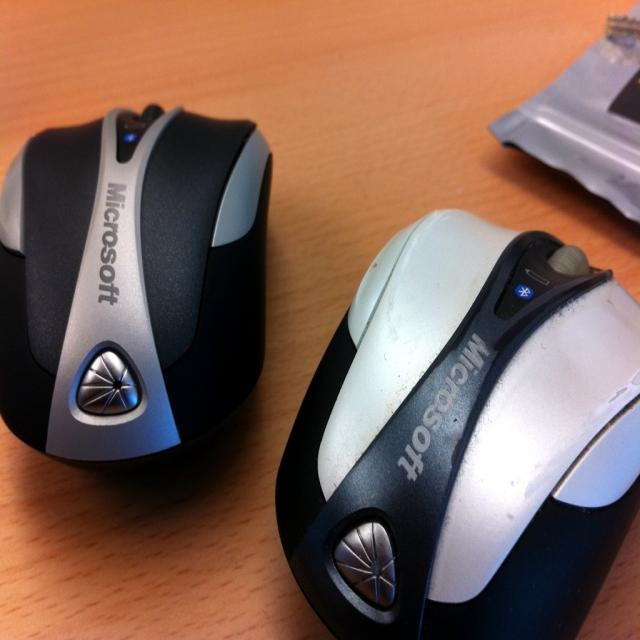Computer-mouse: (270, 205, 640, 640), (0, 102, 275, 470)
